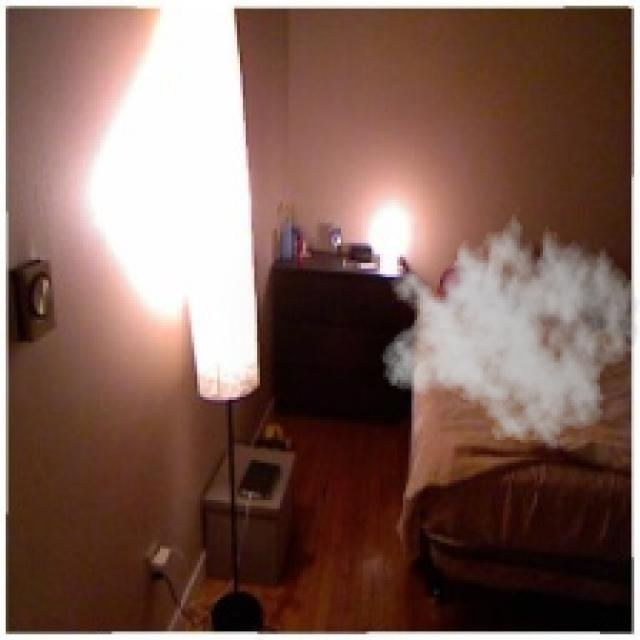smoke: (380, 203, 637, 460)
